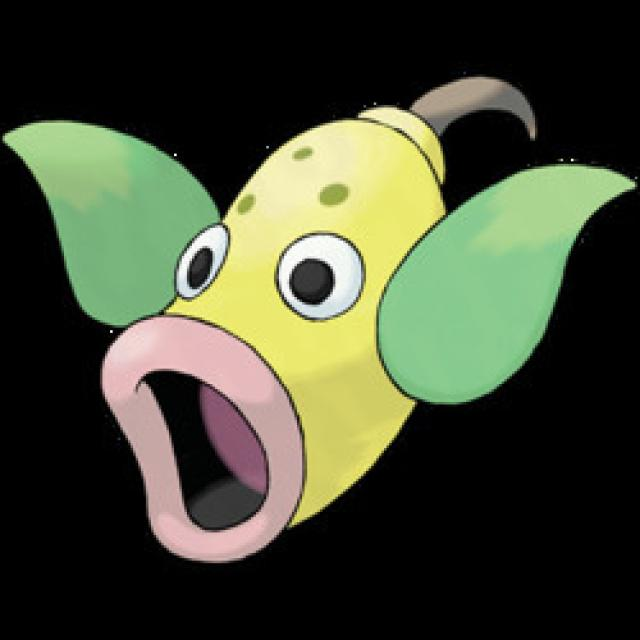Weepinbell: (86, 66, 538, 570)
